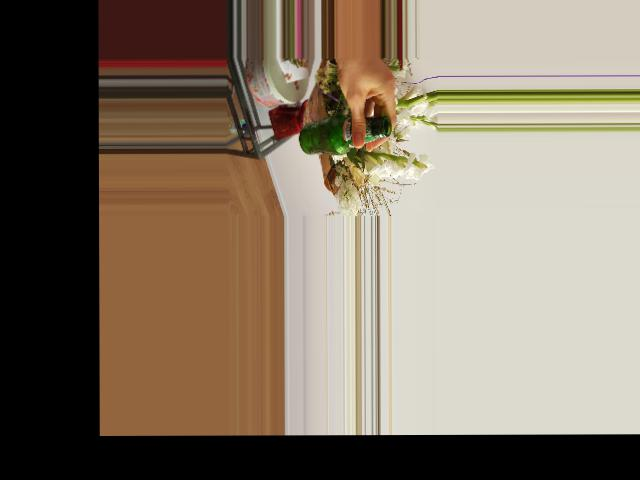beer: (298, 113, 390, 155)
